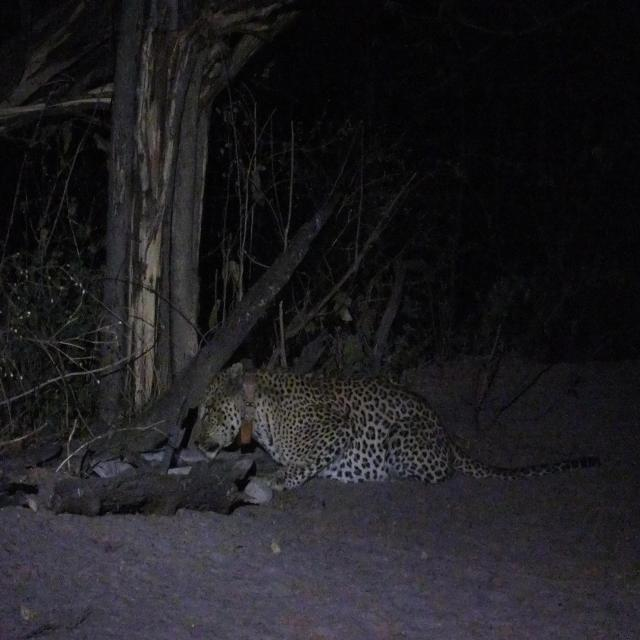Leopard: (185, 367, 565, 512)
